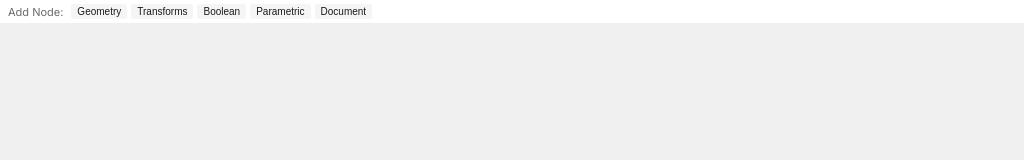
Test case: T-EXT-02: GraphPanel › opens palette when category button clicked
Click the button "geometry" at (99, 12), box [71, 4, 127, 19]
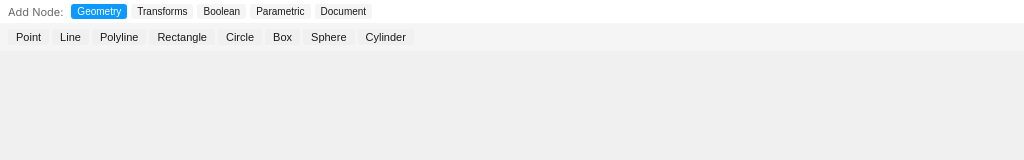
Check: the list named "geometry nodes" is shown, box [0, 23, 1023, 51]
